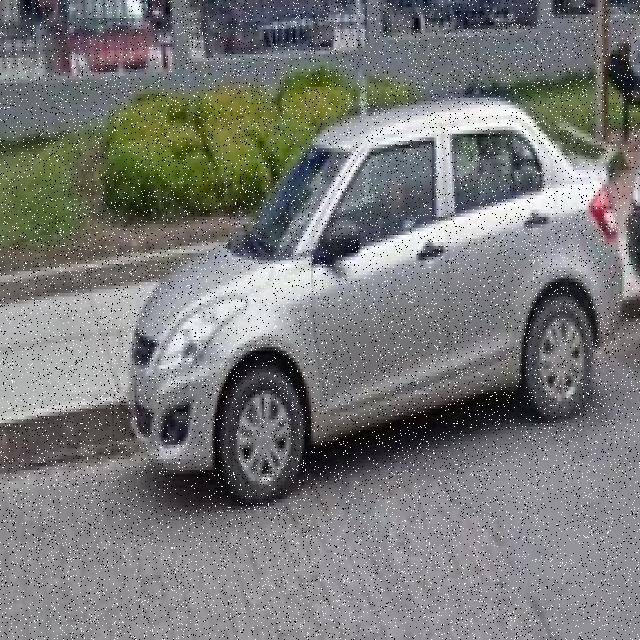cars: (117, 107, 629, 493)
